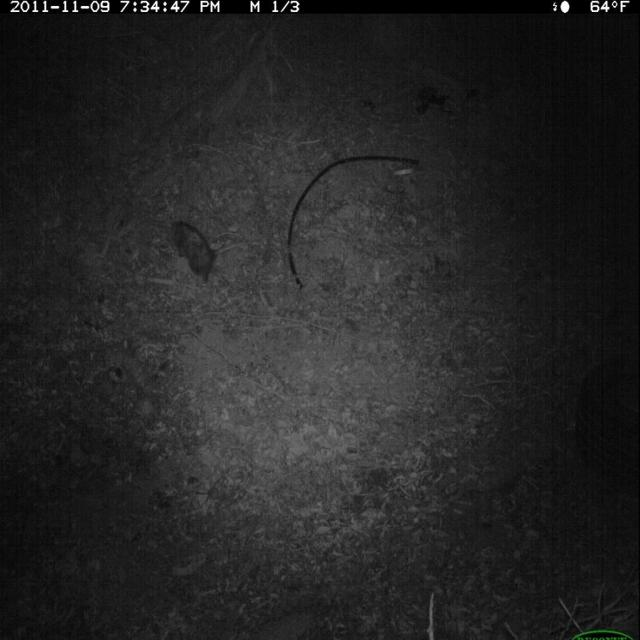opossum: (162, 215, 251, 286)
